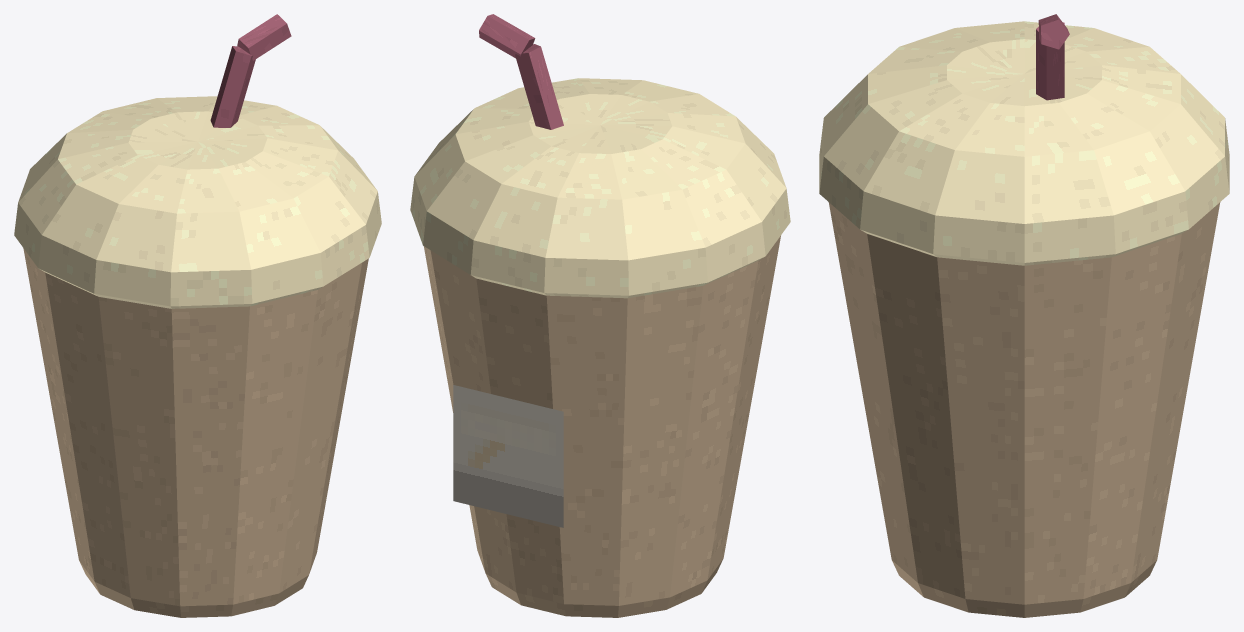
The model's file is milkshake.glb.
3 renders of one model, left to right at view 1: azimuth 30°, elevation 25°; view 2: azimuth 150°, elevation 25°; view 3: azimuth 270°, elevation 25°, orthographic. The views are drawn at different scales.
Visible parts, largest first — view 1: block_tapered cold-drink cup, block_domed cover, block_bent drinking straw 0, block_bent drinking straw 1; view 2: block_tapered cold-drink cup, block_domed cover, block_cup mark, block_bent drinking straw 0, block_bent drinking straw 1; view 3: block_tapered cold-drink cup, block_domed cover, block_bent drinking straw 0, block_bent drinking straw 1.
Part boxes in pixels (x1,y1,x2,y2): block_tapered cold-drink cup: (23,248,368,617); block_domed cover: (14,96,381,308); block_bent drinking straw 0: (210,46,255,127); block_bent drinking straw 1: (237,14,291,60); block_tapered cold-drink cup: (423,236,780,617); block_domed cover: (410,78,790,298); block_cup mark: (453,385,563,527); block_bent drinking straw 0: (514,44,563,129); block_bent drinking straw 1: (479,14,535,58); block_tapered cold-drink cup: (828,202,1220,617); block_domed cover: (819,21,1229,265); block_bent drinking straw 0: (1036,22,1064,100); block_bent drinking straw 1: (1038,14,1069,49).
Size of the model in its own units: 0.0825 by 0.129 by 0.0804.
1 material, 1 textured.
